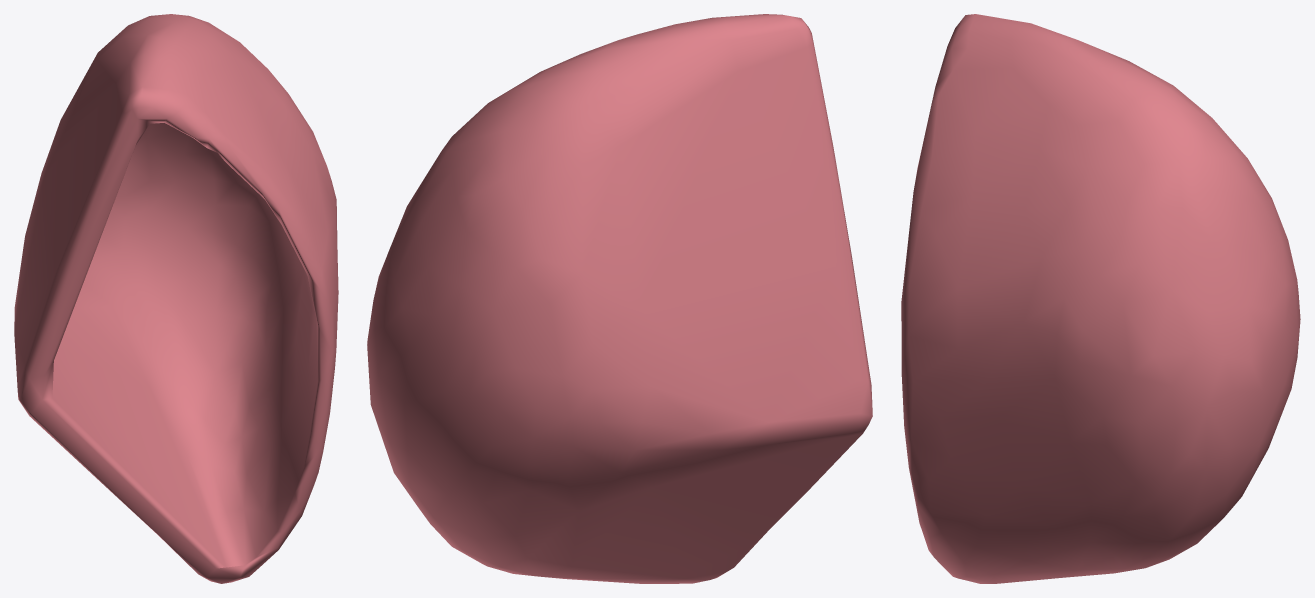
The picture shows the model from 3 angles, left to right: view 1: azimuth 30°, elevation 25°; view 2: azimuth 150°, elevation 25°; view 3: azimuth 270°, elevation 25°; orthographic projection. The views are drawn at different scales.
Visible parts, largest first — view 1: 主动脉瓣左冠瓣; view 2: 主动脉瓣左冠瓣; view 3: 主动脉瓣左冠瓣.
Part boxes in pixels (x1,y1,x2,y2): 主动脉瓣左冠瓣: [14, 14, 338, 583]; 主动脉瓣左冠瓣: [367, 14, 872, 583]; 主动脉瓣左冠瓣: [901, 14, 1300, 583].
Bounding box in the file's own units: 0.0218 × 0.0301 × 0.0207.
